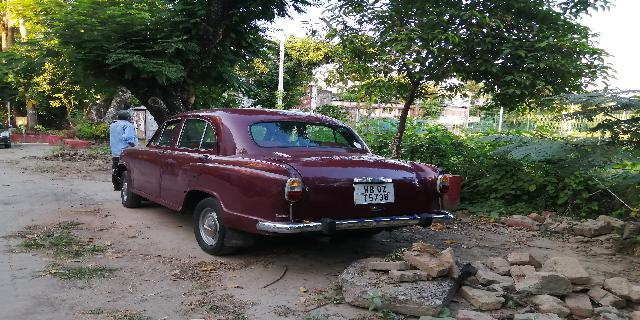Car: (110, 107, 454, 260)
